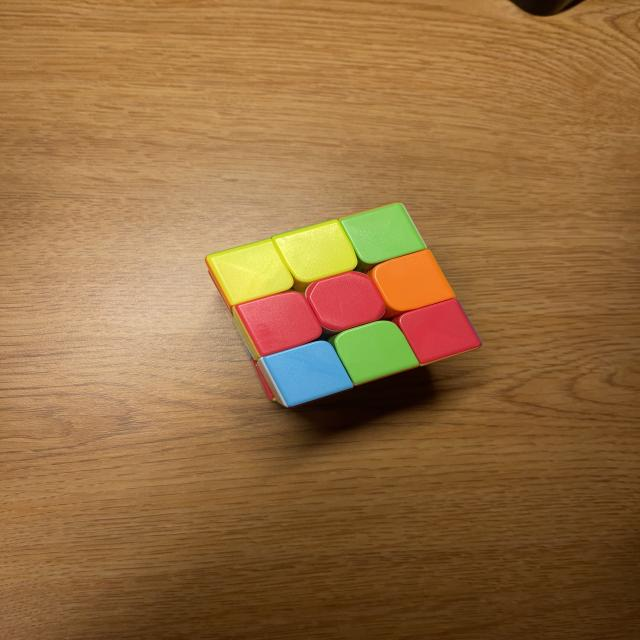Rubiks Cube: (204, 202, 482, 408)
